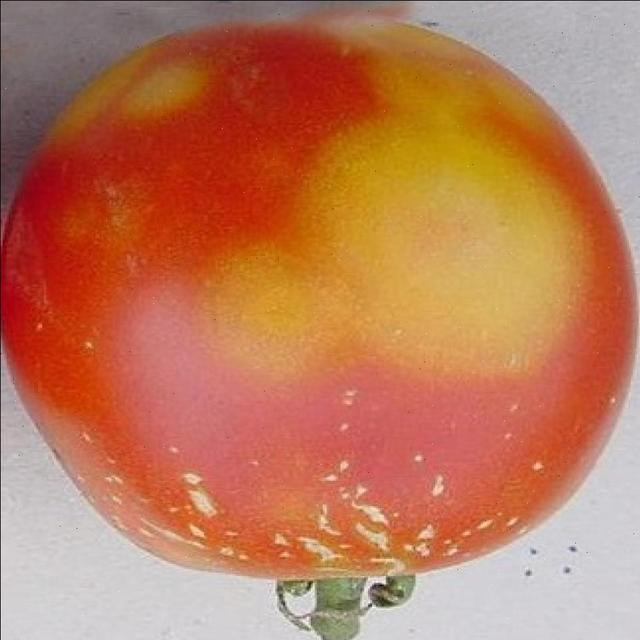Spotted wilt Virus Fruit: (0, 94, 3, 348)
